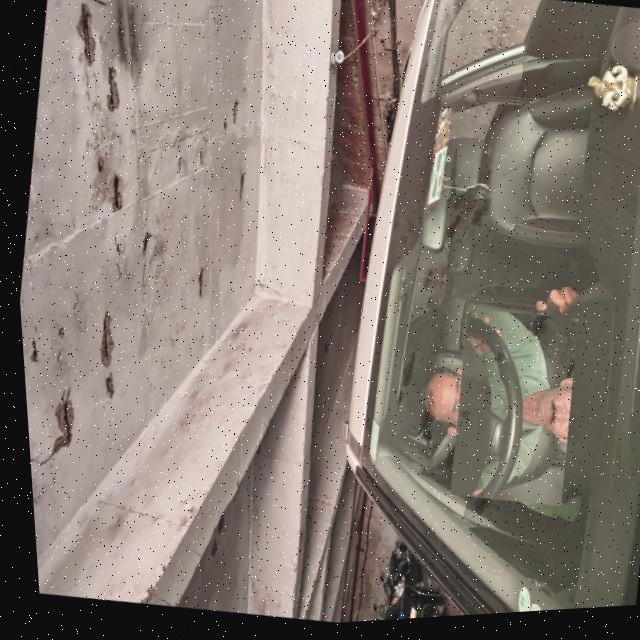no-seatbelt: (432, 309, 582, 518)
